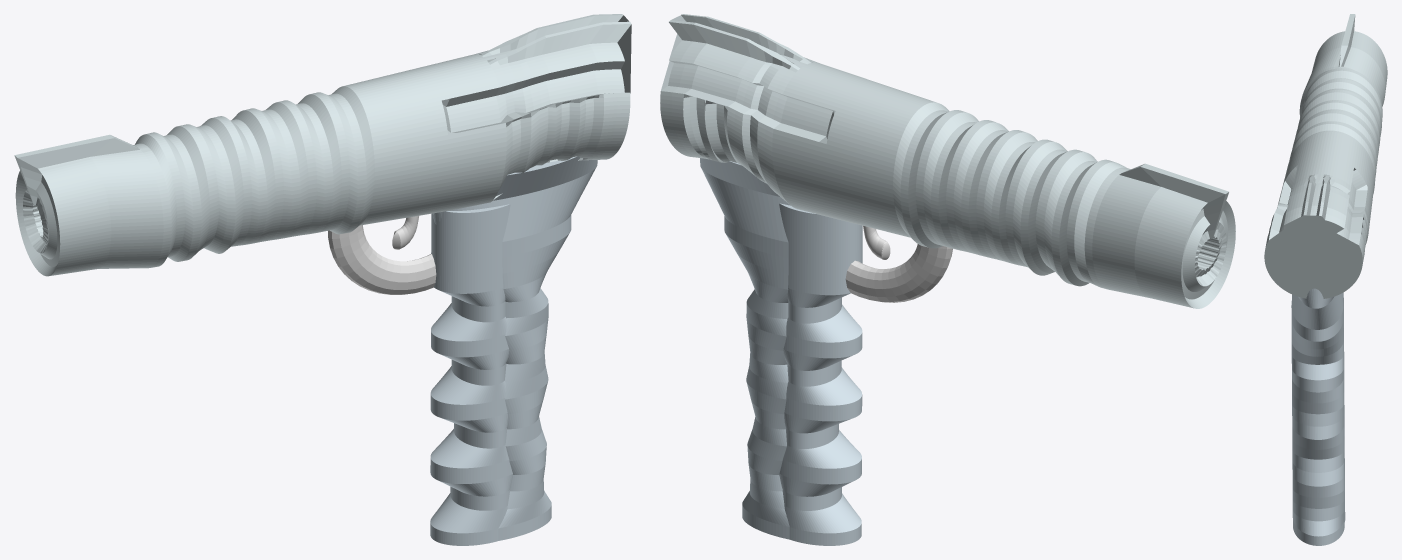
The model's file is gun.fbx.
The picture shows the model from 3 angles, left to right: view 1: azimuth 30°, elevation 25°; view 2: azimuth 150°, elevation 25°; view 3: azimuth 270°, elevation 25°; orthographic projection. The views are drawn at different scales.
Visible parts, largest first — view 1: Cylinder.001, Cylinder, Torus; view 2: Cylinder.001, Cylinder, Torus; view 3: Cylinder.001, Cylinder.
Part boxes in pixels (bbox=[...]): Cylinder.001: bbox=[14, 14, 631, 276]; Cylinder: bbox=[430, 156, 597, 545]; Torus: bbox=[328, 225, 436, 294]; Cylinder.001: bbox=[660, 14, 1235, 308]; Cylinder: bbox=[700, 158, 862, 545]; Torus: bbox=[845, 244, 952, 302]; Cylinder.001: bbox=[1264, 14, 1387, 298]; Cylinder: bbox=[1291, 288, 1345, 545].
Bounding box in the file's own units: 1363 × 1076 × 332.
